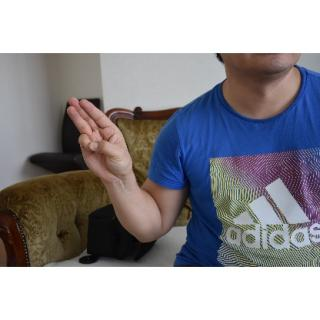THA: (62, 92, 135, 184)
